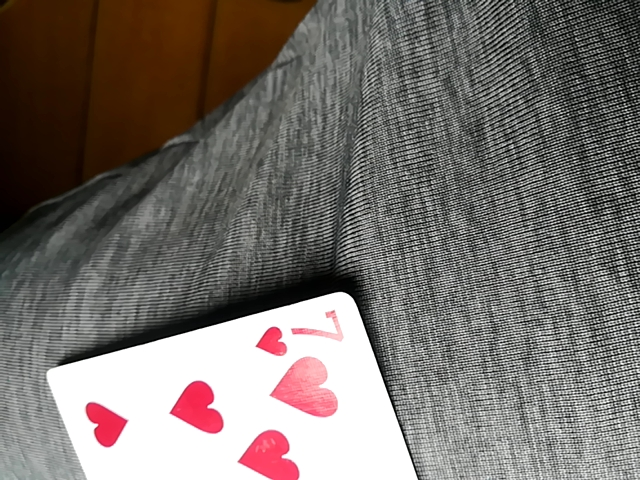hx 7: (50, 294, 420, 475)
